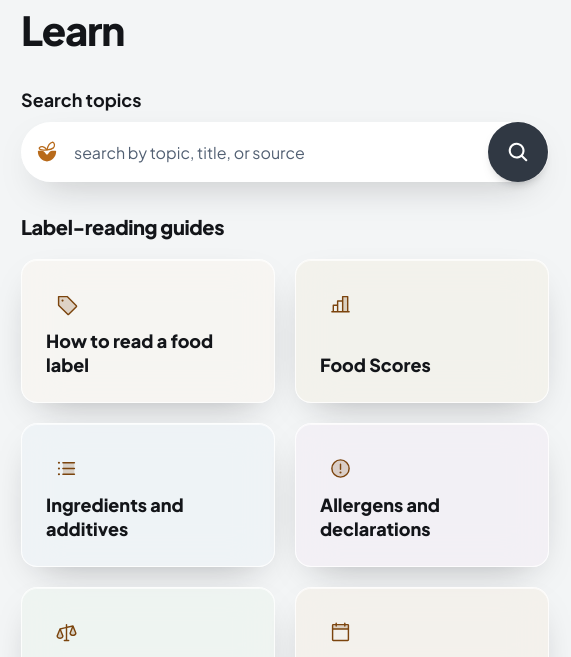
it: LearnPage › keeps one custom clear action for the Learn search
Type "allergen" into the search field with placeholder "search by topic, title, or source". click: [271, 152]
box: [74, 123, 468, 181]
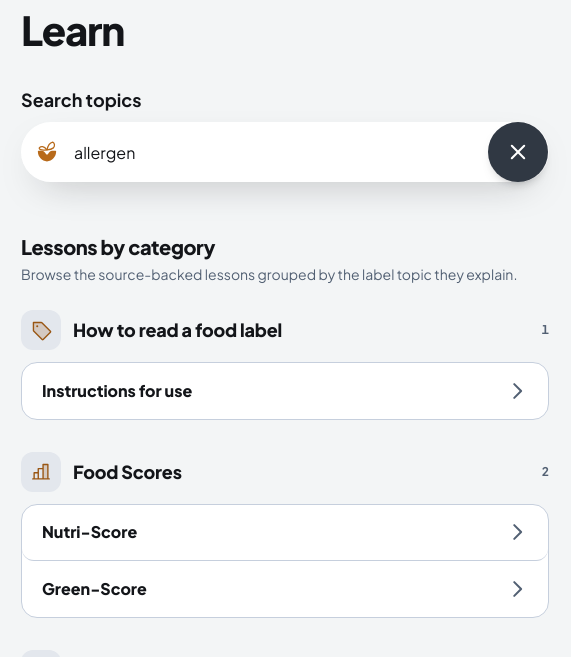
Now the number of buttons named "Clear search" is 1
Click the button named "Clear search". click: [518, 152]
box: [488, 122, 548, 182]
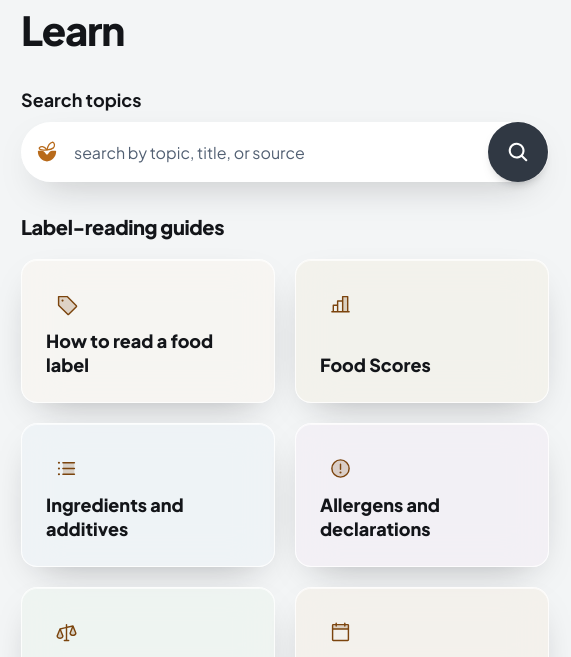
Now the search field with placeholder "search by topic, title, or source" is empty, box [74, 123, 468, 181]
